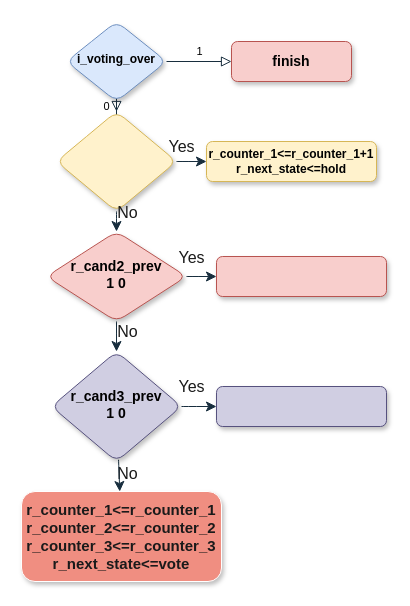
This 410x606 diagram has some shape labels left out. The shapes that lost their labels are listed below. From the top down, each one's centre as x and y in pixels, then its label:
At (117,162): "r_cand1_prev 1 0".
At (302,278): "r_counter_2<=r_counter_2+1 r_next_state<=hold".
At (302,408): "r_counter_3<=r_counter_3+1 r_next_state<=hold".
